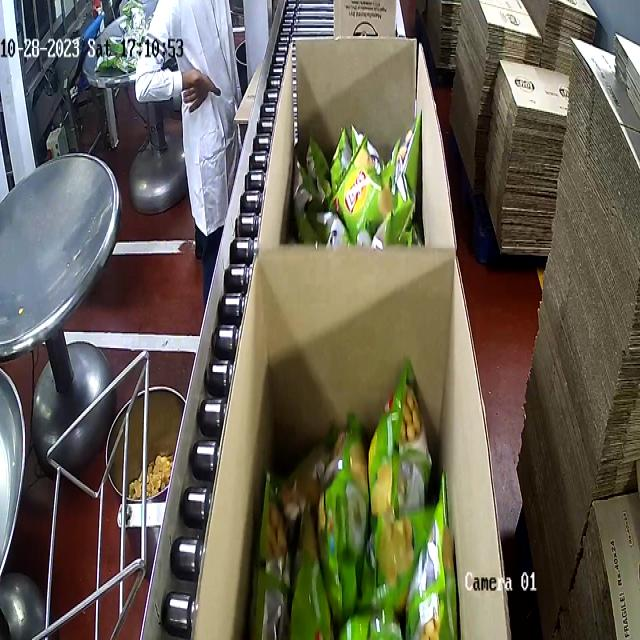YOGURT_HERB: (227, 386, 462, 640), (287, 115, 425, 250)
